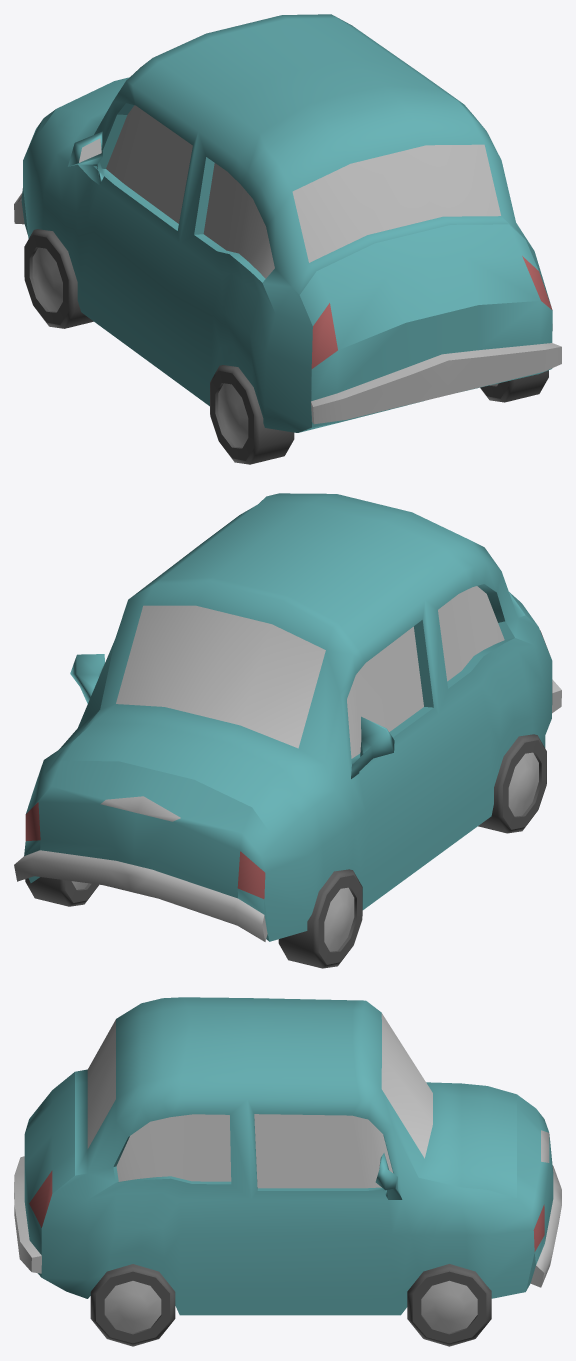
File: toyCar_V2.fbx
3 renders of one model, top to bottom at view 1: azimuth 30°, elevation 25°; view 2: azimuth 150°, elevation 25°; view 3: azimuth 270°, elevation 25°, orthographic. The views are drawn at different scales.
Visible parts, largest first — view 1: car_body01, car_botL_wheel01, car_topL_wheel01, car_botR_wheel01; view 2: car_body01, car_topL_wheel01, car_botL_wheel01, car_topR_wheel01; view 3: car_body01, car_botR_wheel01, car_topR_wheel01.
Boxes of the visible parts, x1=… form: car_body01: x1=14, y1=14, x2=561, y2=432; car_botL_wheel01: x1=210, y1=365, x2=294, y2=464; car_topL_wheel01: x1=24, y1=229, x2=93, y2=328; car_botR_wheel01: x1=480, y1=370, x2=548, y2=402; car_body01: x1=14, y1=493, x2=561, y2=941; car_topL_wheel01: x1=278, y1=869, x2=362, y2=968; car_botL_wheel01: x1=478, y1=734, x2=546, y2=833; car_topR_wheel01: x1=25, y1=877, x2=98, y2=906; car_body01: x1=14, y1=997, x2=561, y2=1315; car_botR_wheel01: x1=90, y1=1264, x2=175, y2=1346; car_topR_wheel01: x1=407, y1=1264, x2=491, y2=1346.
Size of the model in its own units: 0.6825 by 0.6183 by 1.17.
